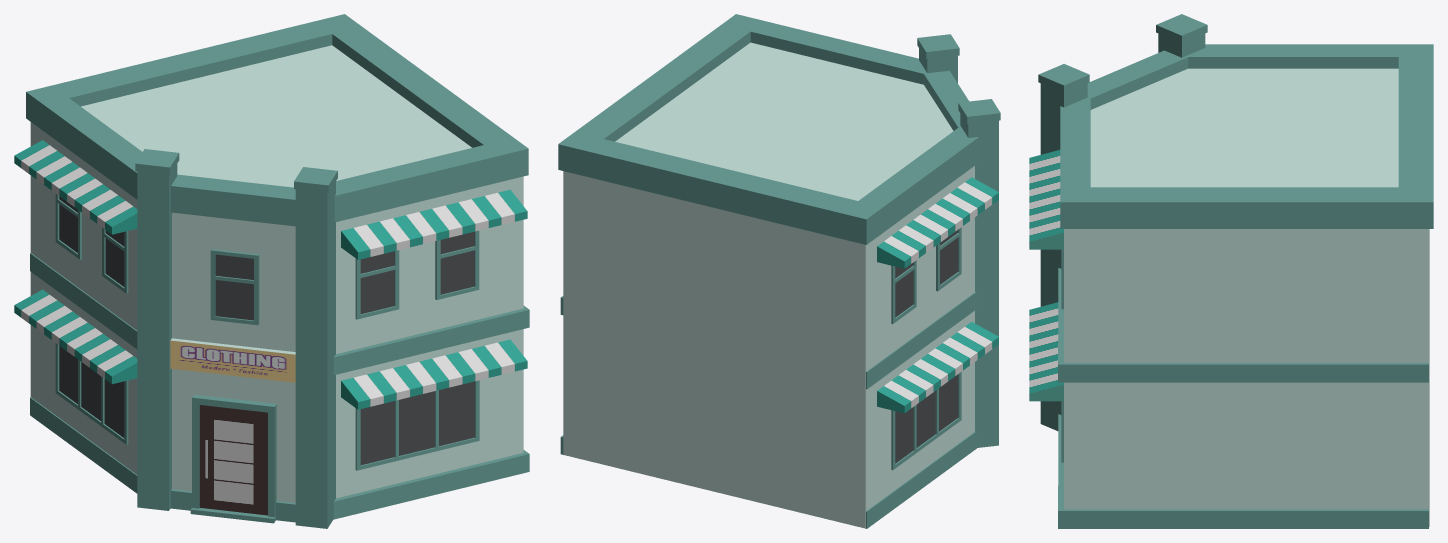
The model's file is Building_Clothing.glb.
The picture shows the model from 3 angles, left to right: view 1: azimuth 30°, elevation 25°; view 2: azimuth 150°, elevation 25°; view 3: azimuth 270°, elevation 25°; orthographic projection. The views are drawn at different scales.
Parts seen in each view (by area): view 1: Building_Clothing; view 2: Building_Clothing; view 3: Building_Clothing.
Part boxes in pixels (<box>): Building_Clothing: <box>14,14,529,528</box>; Building_Clothing: <box>558,14,1000,528</box>; Building_Clothing: <box>1029,14,1433,528</box>.
Size of the model in its own units: 12.13 by 11.61 by 12.16.
1 material, 1 textured.
